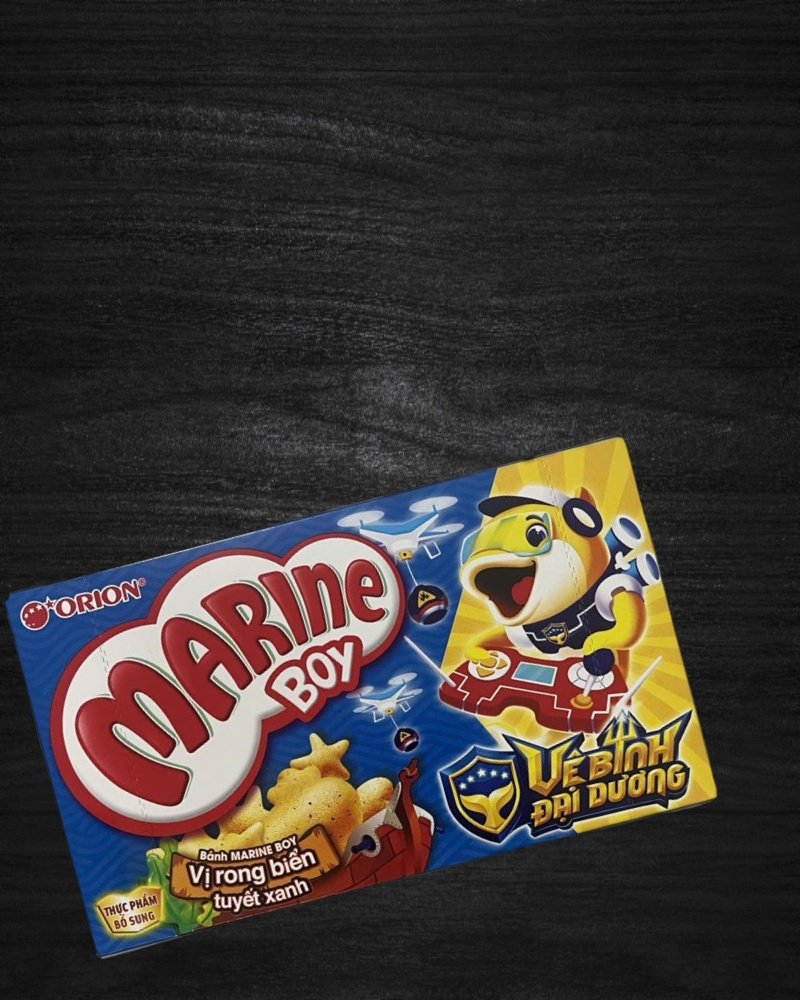Marine: (3, 429, 723, 965)
